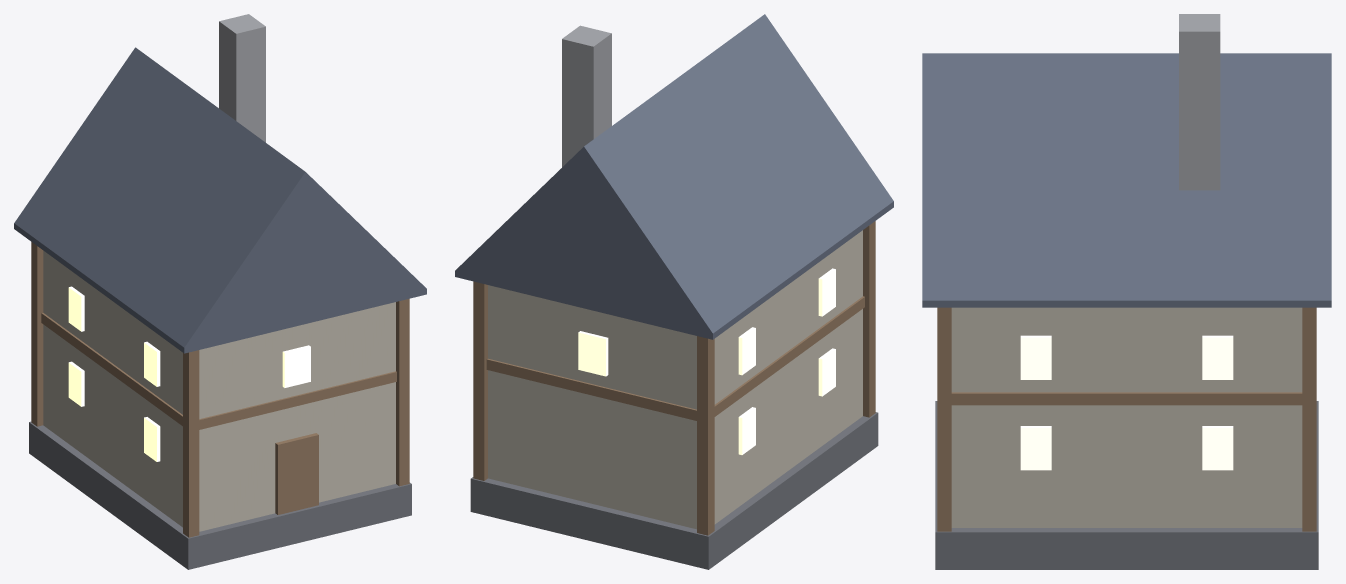
Rendered from house_a.glb.
3 renders of one model, left to right at view 1: azimuth 30°, elevation 25°; view 2: azimuth 150°, elevation 25°; view 3: azimuth 270°, elevation 25°, orthographic. The views are drawn at different scales.
Parts seen in each view (by area): view 1: house_a; view 2: house_a; view 3: house_a.
Boxes of the visible parts, x1,y1,x2,y2 form: house_a: [14, 14, 426, 569]; house_a: [455, 14, 893, 569]; house_a: [922, 14, 1331, 569].
Bounding box in the file's own units: 6.5 × 10.9 × 7.9.
